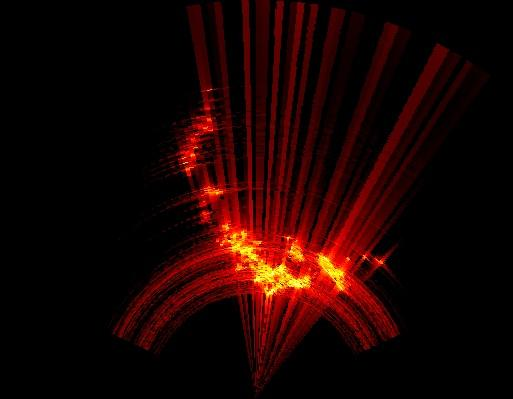shipwreck: (200, 180, 309, 293), (178, 110, 211, 174), (318, 254, 346, 290), (291, 238, 301, 260)
